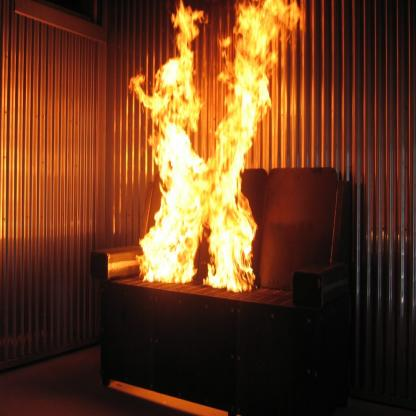fire: (124, 0, 299, 300)
